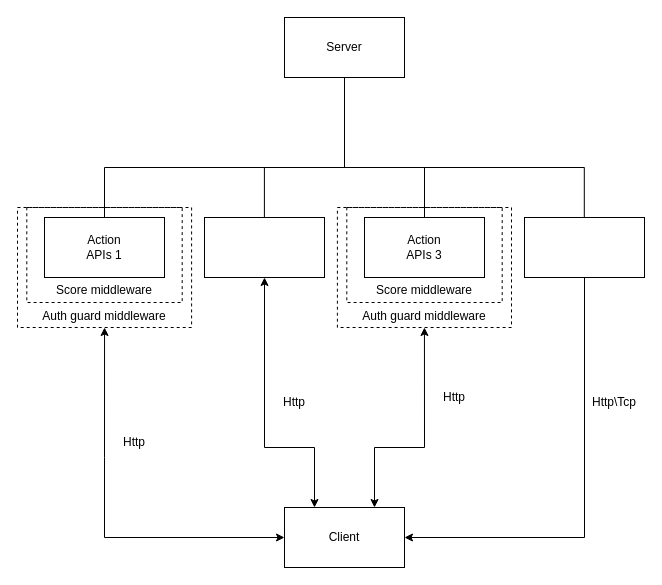
The diagram is 662 pixels wide and 585 high, and some of its shapes have lost their labels. Here are the shapes that lost their labels. From the top down, the box of each, then its label:
(204, 216, 324, 278): Action APIs 2
(524, 216, 644, 278): Score APIs
